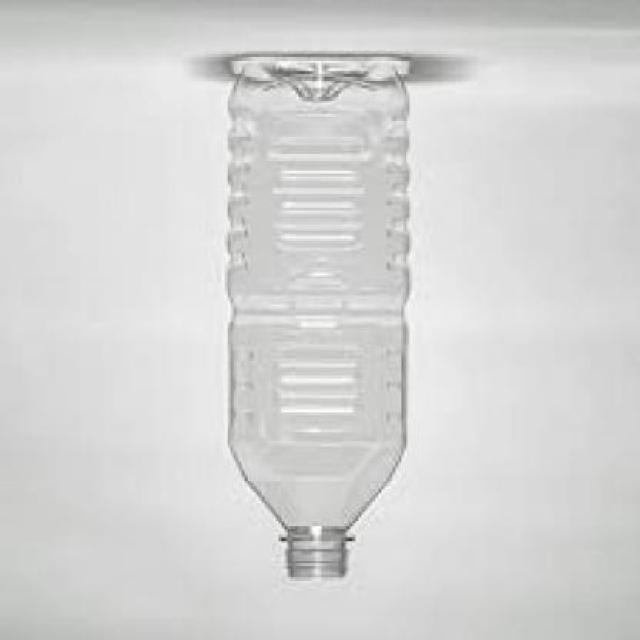PLASTIC: (228, 54, 412, 578)
